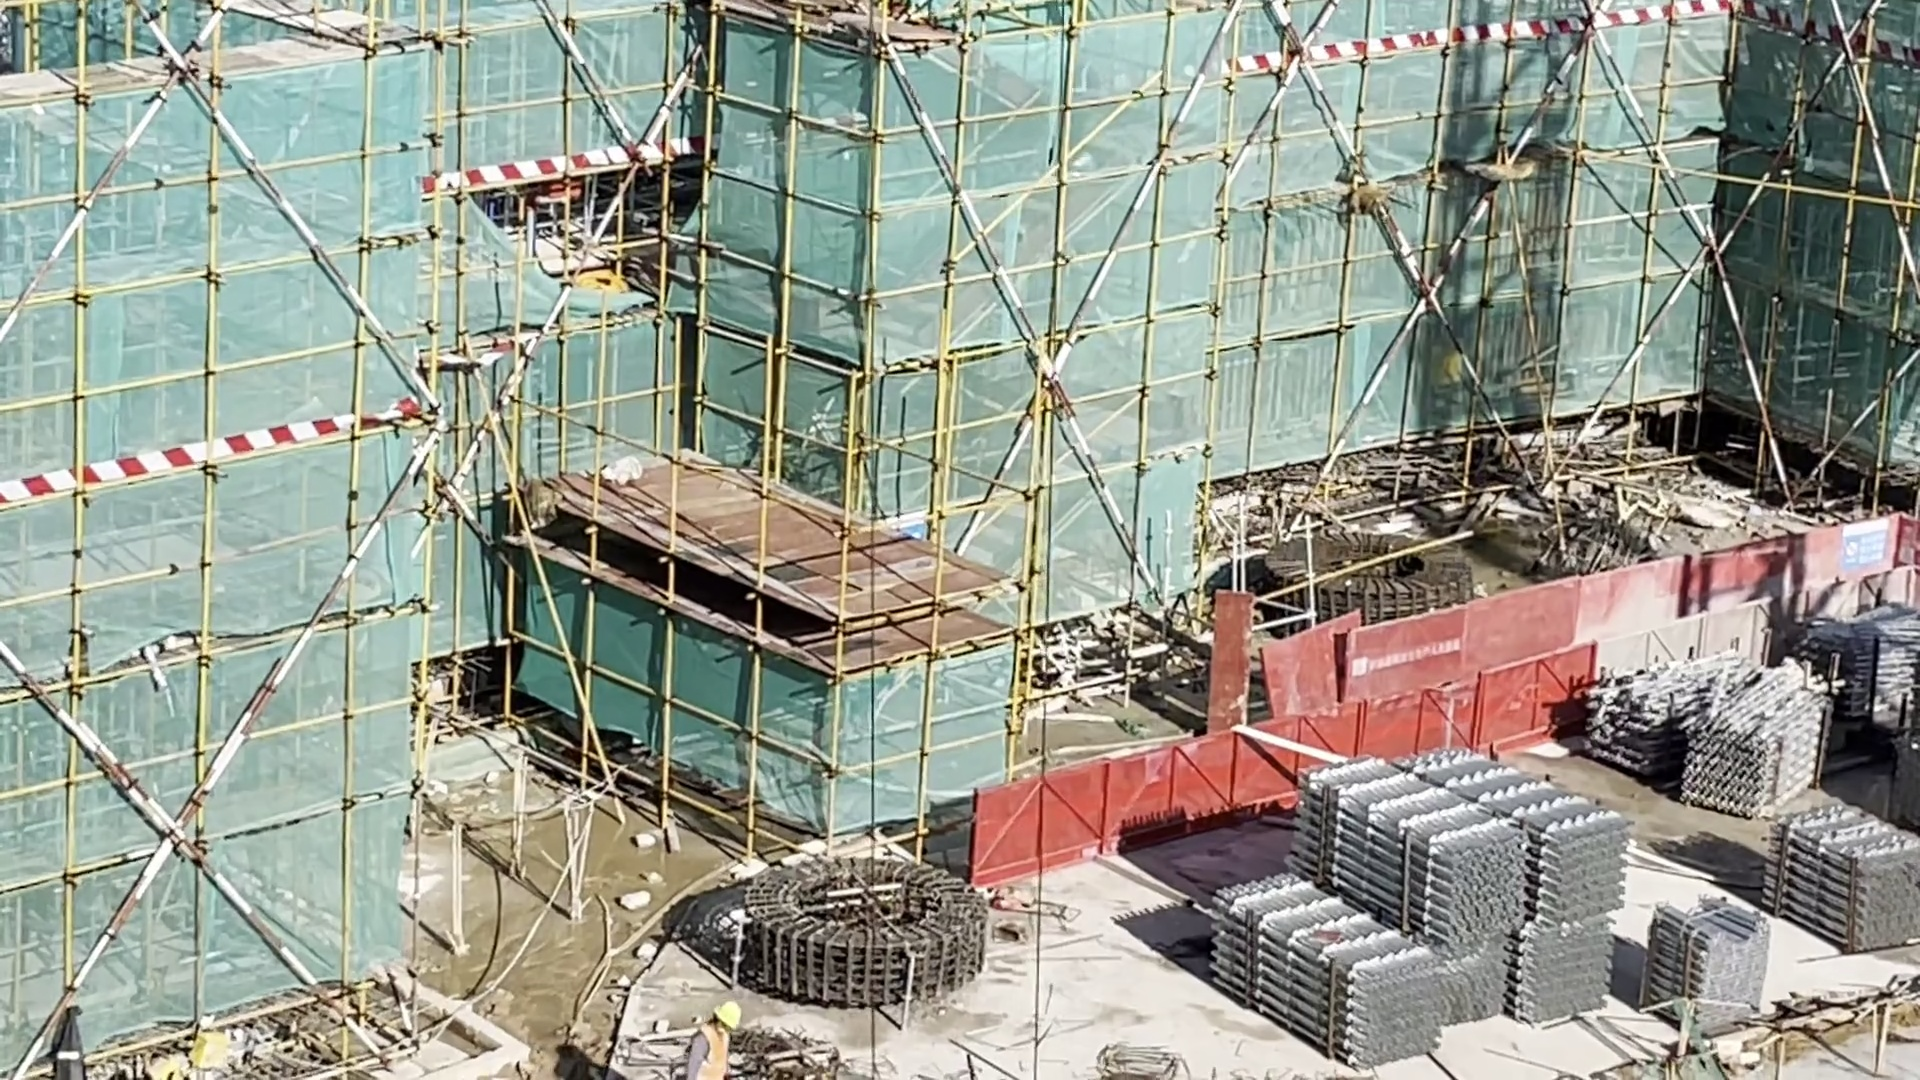fence: (968, 539, 1920, 868)
helmet: (718, 1000, 743, 1026)
person: (690, 998, 738, 1080)
scaffold: (1190, 754, 1631, 1051), (1584, 649, 1831, 813), (1761, 810, 1919, 943), (1650, 896, 1765, 1039)
vest: (698, 1019, 741, 1080)
